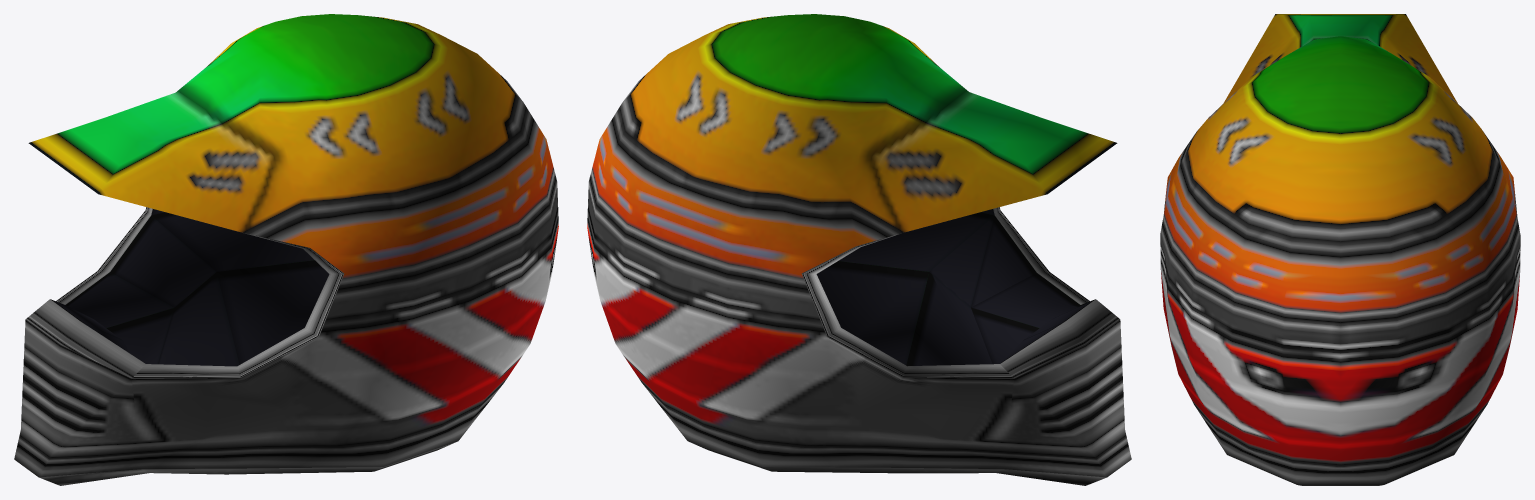
File: helmet.ICN.obj
3 renders of one model, left to right at view 1: azimuth 30°, elevation 25°; view 2: azimuth 150°, elevation 25°; view 3: azimuth 270°, elevation 25°, orthographic. The views are drawn at different scales.
Bounding box in the file's own units: 3.11 × 2.31 × 2.03.
Materials: 1 (1 with a texture image).
